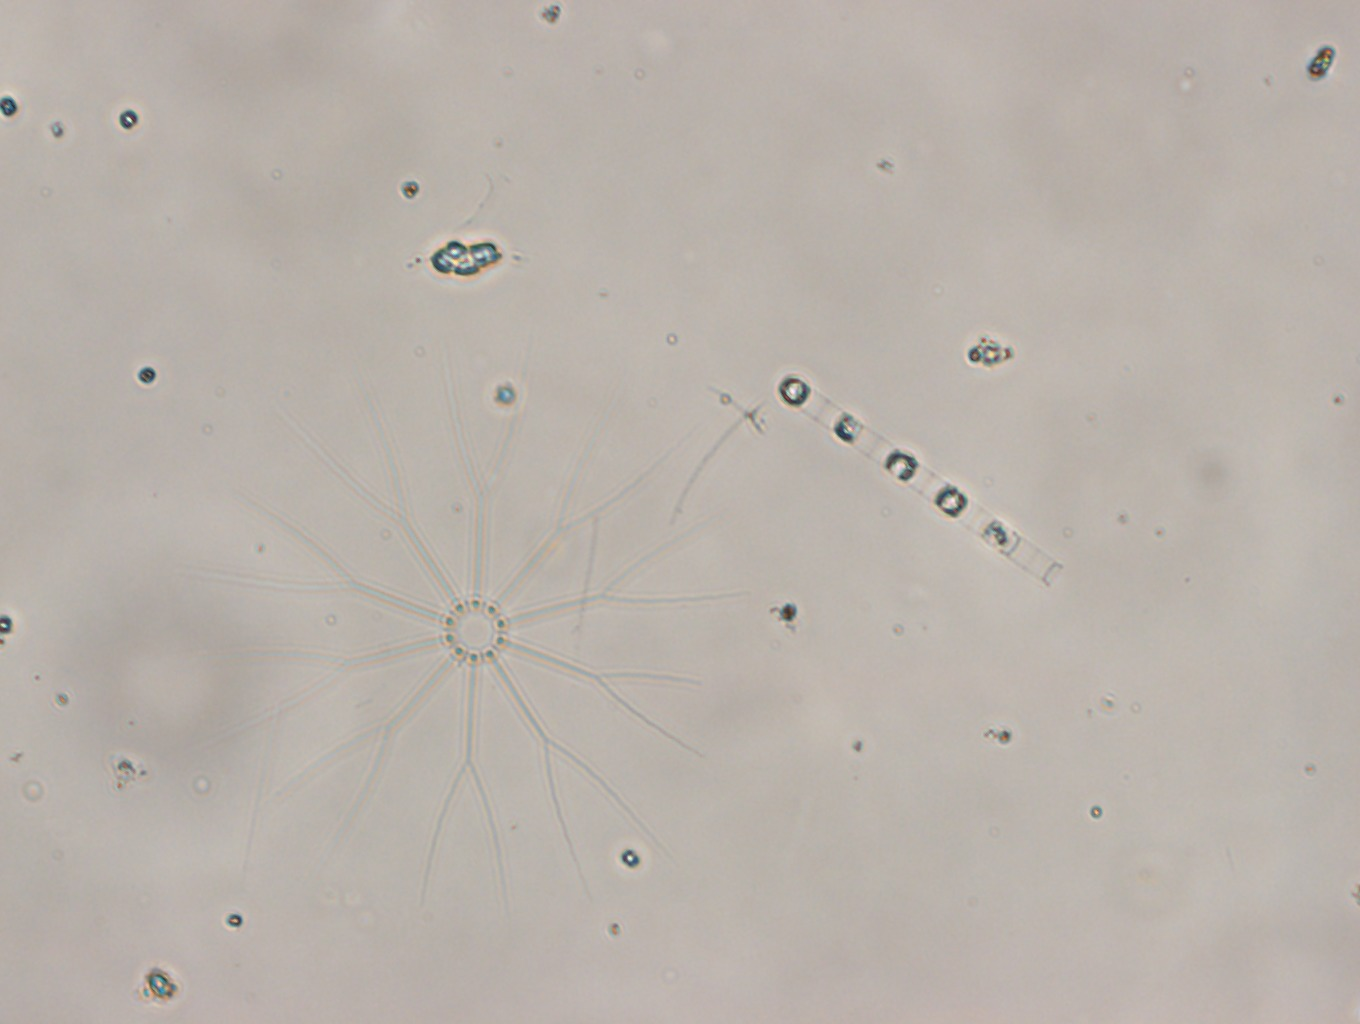bacteriastrum: (216, 380, 751, 906)
skeletonema: (772, 364, 1076, 599)
